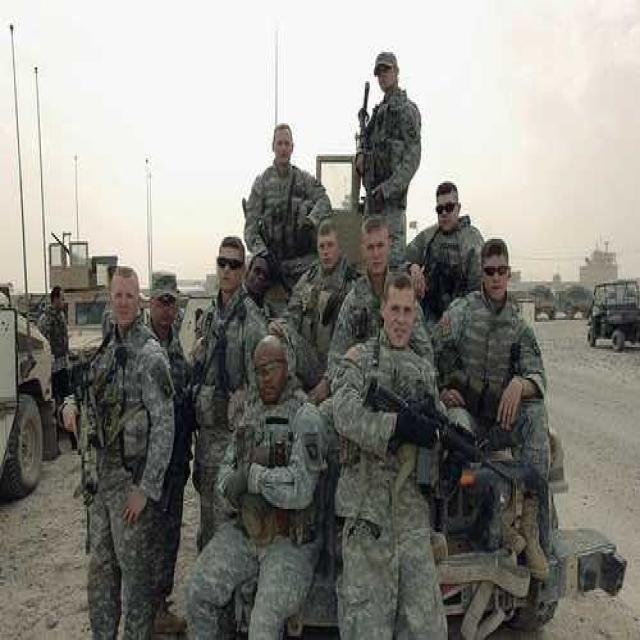Rifle: (357, 75, 372, 190)
RifleTel: (364, 364, 531, 520)
